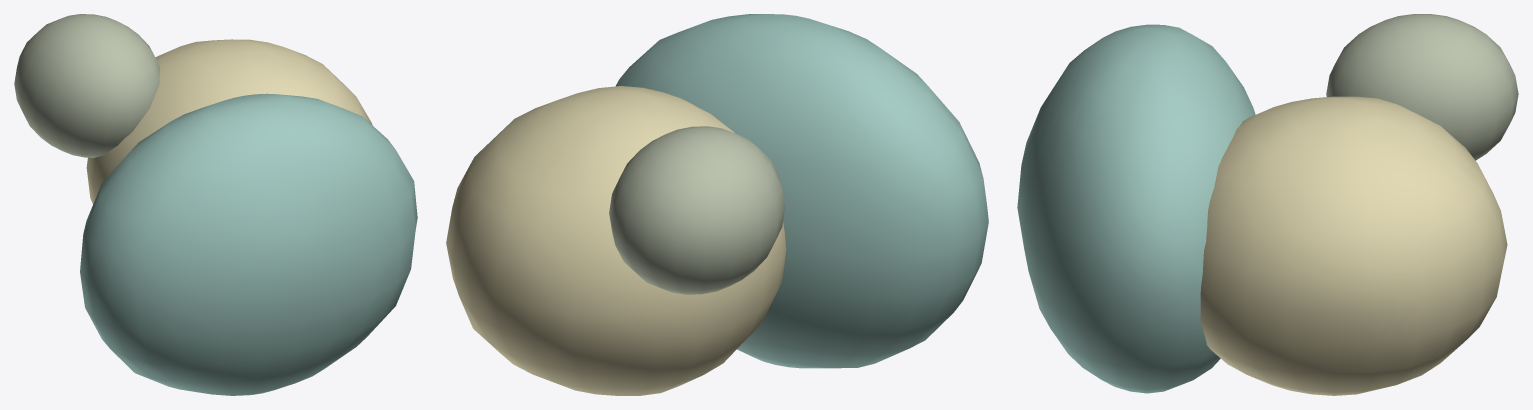
The model's file is protease_module.glb.
The picture shows the model from 3 angles, left to right: view 1: azimuth 30°, elevation 25°; view 2: azimuth 150°, elevation 25°; view 3: azimuth 270°, elevation 25°; orthographic projection. The views are drawn at different scales.
Parts seen in each view (by area): view 1: Protease_Anchor, Protease_SubstrateGroove, Protease_CatalyticLobe; view 2: Protease_Anchor, Protease_CatalyticLobe, Protease_SubstrateGroove; view 3: Protease_CatalyticLobe, Protease_Anchor, Protease_SubstrateGroove.
Boxes of the visible parts, <box> form: Protease_Anchor: <box>80,93,417,395</box>; Protease_SubstrateGroove: <box>14,14,159,157</box>; Protease_CatalyticLobe: <box>86,39,372,204</box>; Protease_Anchor: <box>616,14,988,368</box>; Protease_CatalyticLobe: <box>446,86,786,395</box>; Protease_SubstrateGroove: <box>609,126,784,294</box>; Protease_CatalyticLobe: <box>1200,96,1507,395</box>; Protease_Anchor: <box>1017,24,1255,393</box>; Protease_SubstrateGroove: <box>1326,14,1518,160</box>.
Bounding box in the file's own units: 0.174 × 0.1352 × 0.1876.
